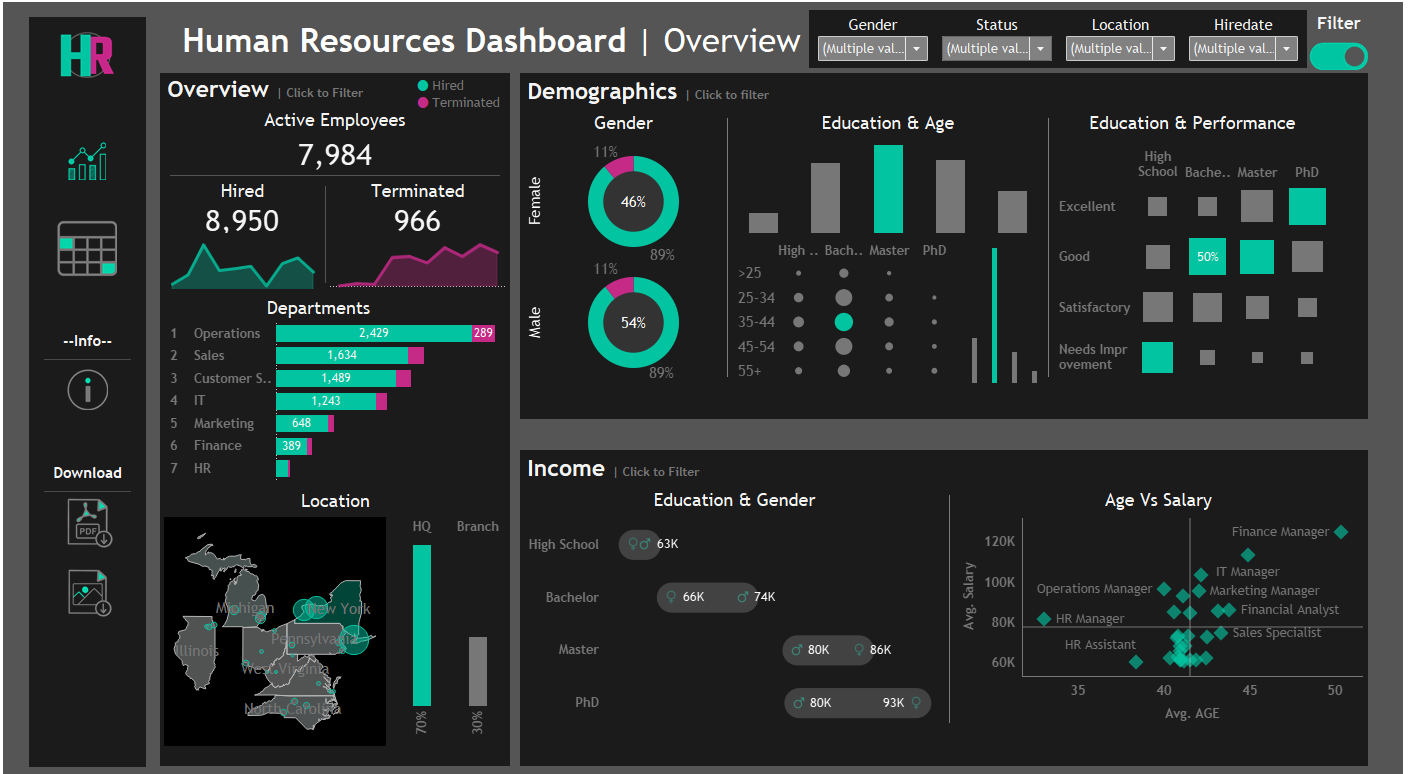

The page's visual inventory and layout, read from the dashboard file:
{"tool":"tableau","page":{"name":"HR | Summary","canvas":[1400,800],"ordinal":1},"visuals":[{"type":"blank","box":[142,0,1257,266]},{"type":"text","box":[1286,6,100,30]},{"type":"text","box":[150,7,677.5,64]},{"type":"blank","box":[827.5,7,537.5,64]},{"type":"filter","title":"Education VS Gender Level","param":"[federated.1b5o2vp1k13vo616yvkzb0z88h2i].[none:Gender:nk]","box":[808,10,124,54]},{"type":"filter","title":"Education VS Gender Level","param":"[federated.1b5o2vp1k13vo616yvkzb0z88h2i].[none:Calculation_1937110847479668753:n","box":[932,10,124,54]},{"type":"filter","title":"Education VS Gender Level","param":"[federated.1b5o2vp1k13vo616yvkzb0z88h2i].[none:Calculation_1937110846422126599:n","box":[1056,10,123,54]},{"type":"filter","title":"Education VS Gender Level","param":"[federated.1b5o2vp1k13vo616yvkzb0z88h2i].[yr:Hiredate:ok]","box":[1179,10,123,54]},{"type":"image","param":"Image/Logo.png","box":[36,25,97,55]},{"type":"dashboard-object","box":[1306,35,59,39]},{"type":"text","box":[157,71,350,32]},{"type":"text","box":[517,71,848,35]},{"type":"text","box":[411,76,89,36]},{"type":"blank","box":[36,80,97,60]},{"type":"text","box":[157,103,350,29]},{"type":"text","box":[517,106,207,29]},{"type":"blank","box":[724,106,1,279]},{"type":"text","box":[725,106,320,29]},{"type":"blank","box":[1045,106,1,279]},{"type":"text","box":[1046,106,287,29]},{"type":"worksheet","title":"Active","mark":"Text","box":[157,132,350,41]},{"type":"worksheet","title":"Gender","mark":"Pie","rows":["Gender"],"cols":["Calculation_1937110846429085710","Calculation_1937110846429085710"],"box":[517,135,207,250]},{"type":"worksheet","title":"Age Group","mark":"Bar","rows":["Calculation_1937110846402056192"],"cols":["Calculation_1937110846440509456"],"box":[725,135,320,100]},{"type":"worksheet","title":"Education VS Performance","mark":"Square","rows":["Performance Rating"],"cols":["Education Level"],"box":[1046,135,287,250]},{"type":"dashboard-object","box":[36,140,97,38]},{"type":"blank","box":[157,173,350,1]},{"type":"text","box":[157,174,165,29]},{"type":"blank","box":[322,174,1,117]},{"type":"text","box":[323,174,184,29]},{"type":"blank","box":[36,178,97,38]},{"type":"worksheet","title":"HIRED","mark":"Text","box":[157,203,165,32]},{"type":"worksheet","title":"Terminated","mark":"Text","box":[323,203,184,32]},{"type":"dashboard-object","box":[36,216,97,60]},{"type":"worksheet","title":"Hired by Years","mark":"Line","rows":["Calculation_1937110846402056192","Calculation_1937110846402056192"],"cols":["Hiredate"],"box":[157,235,165,56]},{"type":"worksheet","title":"Terminated by Years","mark":"Line","rows":["Calculation_1937110846402326529","Calculation_1937110846402326529"],"cols":["Termdate"],"box":[323,235,184,56]},{"type":"worksheet","title":"Age VS Education","mark":"Pie","rows":["Calculation_1937110846440509456"],"cols":["Education Level"],"box":[725,235,233,150]},{"type":"worksheet","title":"Education Level","mark":"Bar","rows":["Calculation_1937110846402056192"],"cols":["Education Level"],"box":[958,235,87,150]},{"type":"text","box":[142,266,1257,267]},{"type":"blank","box":[36,276,97,50]},{"type":"blank","box":[157,291,92,25]},{"type":"text","box":[249,291,133,25]},{"type":"blank","box":[382,291,125,25]},{"type":"worksheet","title":"Departments","mark":"Bar","rows":["Calculation_1937110846415405062","Department"],"cols":["Calculation_1937110846402056192"],"box":[157,316,350,166]},{"type":"text","box":[36,326,97,26]},{"type":"blank","box":[36,352,97,11]},{"type":"dashboard-object","box":[36,363,97,49]},{"type":"blank","box":[36,412,97,46]},{"type":"text","box":[517,448.5,848,35]},{"type":"text","box":[36,458,97,26]},{"type":"text","box":[517,483.5,429.5,29]},{"type":"blank","box":[946.5,483.5,1,248]},{"type":"text","box":[947.5,483.5,417.5,29]},{"type":"blank","box":[36,484,97,11]},{"type":"blank","box":[167,487,112.7,24]},{"type":"text","box":[279.7,487,104.7,24]},{"type":"blank","box":[384.3,487,112.7,24]},{"type":"dashboard-object","box":[36,495,97,51]},{"type":"worksheet","title":"MAP STATE","mark":"Automatic","box":[157,511,230.5,237]},{"type":"worksheet","title":"Location","mark":"Bar","rows":["Calculation_1937110846402056192"],"cols":["Calculation_1937110846422126599","Calculation1"],"box":[387.5,511,119.5,237]},{"type":"worksheet","title":"Education VS Gender Level","mark":"Square","rows":["Education Level"],"cols":["Salary","Salary"],"box":[517,512.5,429.5,219]},{"type":"worksheet","title":"Age VS Salary","mark":"Shape","rows":["Salary"],"cols":["Calculation_1937110846439919631"],"box":[947.5,512.5,417.5,219]},{"type":"blank","box":[142,533,1257,267]},{"type":"blank","box":[36,546,97,20]},{"type":"dashboard-object","box":[36,566,97,49]}]}

Visuals, with their boxes on the page's 1400x800 design canvas (x1, y1, x2, y2). These are canvas units, not pixel positions in the 1408x774 screenshot, which may show the page scaled, cropped or inside an application window:
blank: <bbox>142, 0, 1399, 266</bbox>
text: <bbox>1286, 6, 1386, 36</bbox>
text: <bbox>150, 7, 828, 71</bbox>
blank: <bbox>828, 7, 1365, 71</bbox>
"Education VS Gender Level" filter: <bbox>808, 10, 932, 64</bbox>
"Education VS Gender Level" filter: <bbox>932, 10, 1056, 64</bbox>
"Education VS Gender Level" filter: <bbox>1056, 10, 1179, 64</bbox>
"Education VS Gender Level" filter: <bbox>1179, 10, 1302, 64</bbox>
image: <bbox>36, 25, 133, 80</bbox>
dashboard-object: <bbox>1306, 35, 1365, 74</bbox>
text: <bbox>157, 71, 507, 103</bbox>
text: <bbox>517, 71, 1365, 106</bbox>
text: <bbox>411, 76, 500, 112</bbox>
blank: <bbox>36, 80, 133, 140</bbox>
text: <bbox>157, 103, 507, 132</bbox>
text: <bbox>517, 106, 724, 135</bbox>
blank: <bbox>724, 106, 725, 385</bbox>
text: <bbox>725, 106, 1045, 135</bbox>
blank: <bbox>1045, 106, 1046, 385</bbox>
text: <bbox>1046, 106, 1333, 135</bbox>
"Active" worksheet (Text marks): <bbox>157, 132, 507, 173</bbox>
"Gender" worksheet (Pie marks): <bbox>517, 135, 724, 385</bbox>
"Age Group" worksheet (Bar marks): <bbox>725, 135, 1045, 235</bbox>
"Education VS Performance" worksheet (Square marks): <bbox>1046, 135, 1333, 385</bbox>
dashboard-object: <bbox>36, 140, 133, 178</bbox>
blank: <bbox>157, 173, 507, 174</bbox>
text: <bbox>157, 174, 322, 203</bbox>
blank: <bbox>322, 174, 323, 291</bbox>
text: <bbox>323, 174, 507, 203</bbox>
blank: <bbox>36, 178, 133, 216</bbox>
"HIRED" worksheet (Text marks): <bbox>157, 203, 322, 235</bbox>
"Terminated" worksheet (Text marks): <bbox>323, 203, 507, 235</bbox>
dashboard-object: <bbox>36, 216, 133, 276</bbox>
"Hired by Years" worksheet (Line marks): <bbox>157, 235, 322, 291</bbox>
"Terminated by Years" worksheet (Line marks): <bbox>323, 235, 507, 291</bbox>
"Age VS Education" worksheet (Pie marks): <bbox>725, 235, 958, 385</bbox>
"Education Level" worksheet (Bar marks): <bbox>958, 235, 1045, 385</bbox>
text: <bbox>142, 266, 1399, 533</bbox>
blank: <bbox>36, 276, 133, 326</bbox>
blank: <bbox>157, 291, 249, 316</bbox>
text: <bbox>249, 291, 382, 316</bbox>
blank: <bbox>382, 291, 507, 316</bbox>
"Departments" worksheet (Bar marks): <bbox>157, 316, 507, 482</bbox>
text: <bbox>36, 326, 133, 352</bbox>
blank: <bbox>36, 352, 133, 363</bbox>
dashboard-object: <bbox>36, 363, 133, 412</bbox>
blank: <bbox>36, 412, 133, 458</bbox>
text: <bbox>517, 448, 1365, 484</bbox>
text: <bbox>36, 458, 133, 484</bbox>
text: <bbox>517, 484, 946, 512</bbox>
blank: <bbox>946, 484, 948, 732</bbox>
text: <bbox>948, 484, 1365, 512</bbox>
blank: <bbox>36, 484, 133, 495</bbox>
blank: <bbox>167, 487, 280, 511</bbox>
text: <bbox>280, 487, 384, 511</bbox>
blank: <bbox>384, 487, 497, 511</bbox>
dashboard-object: <bbox>36, 495, 133, 546</bbox>
"MAP STATE" worksheet: <bbox>157, 511, 388, 748</bbox>
"Location" worksheet (Bar marks): <bbox>388, 511, 507, 748</bbox>
"Education VS Gender Level" worksheet (Square marks): <bbox>517, 512, 946, 732</bbox>
"Age VS Salary" worksheet (Shape marks): <bbox>948, 512, 1365, 732</bbox>
blank: <bbox>142, 533, 1399, 800</bbox>
blank: <bbox>36, 546, 133, 566</bbox>
dashboard-object: <bbox>36, 566, 133, 615</bbox>
